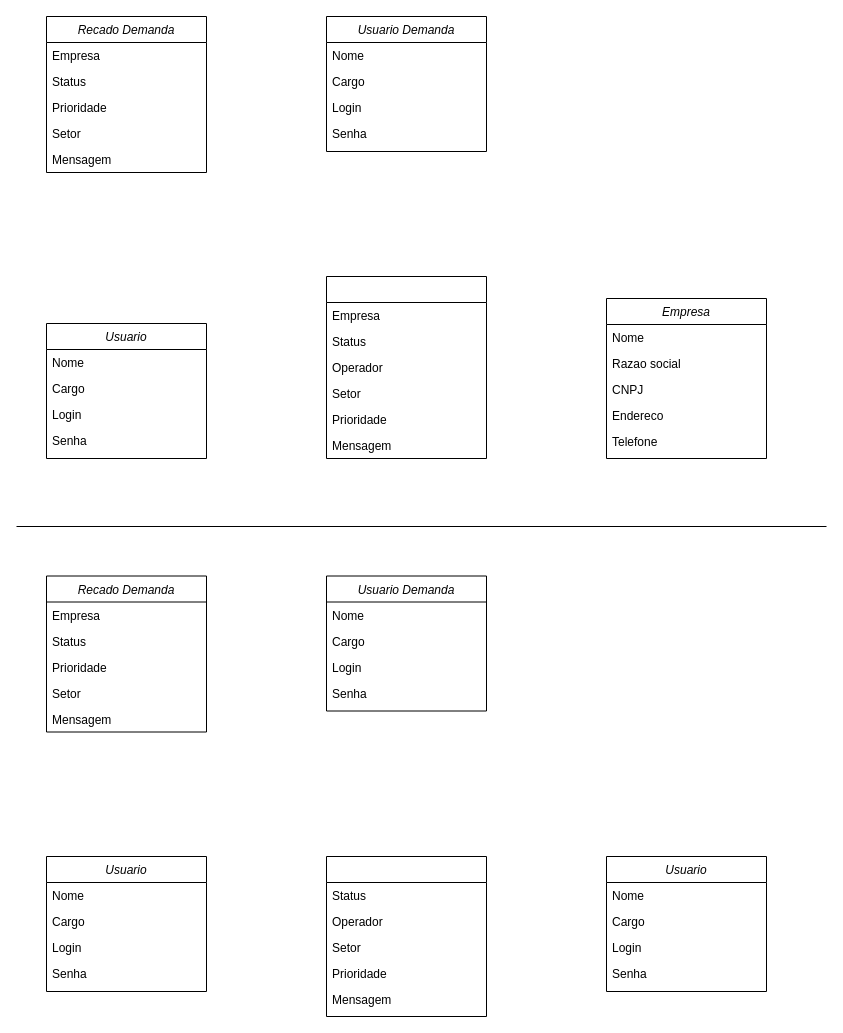
The diagram is 843 pixels wide and 1033 high, and some of its shapes have lost their labels. The box of each missing label's shape, as (x1, y1, x2, y2) in pixels:
Recado Externo: (326, 276, 486, 458)
Recado Interno: (326, 856, 486, 1016)
